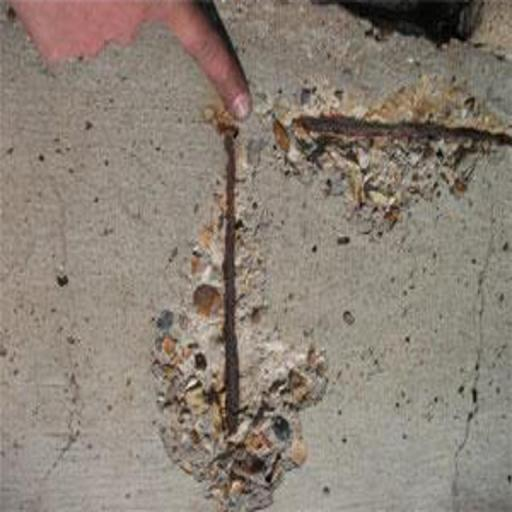spalling: (147, 61, 512, 511)
